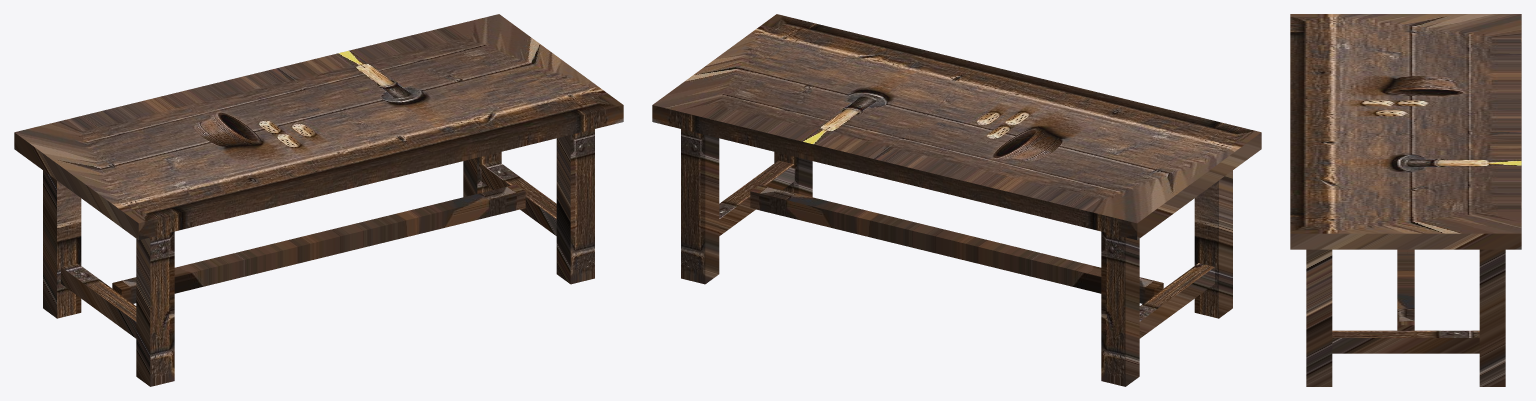
Rendered from v3-guard-post-watch-table.glb.
3 views of the same model, side by side, from view 1: azimuth 30°, elevation 25°; view 2: azimuth 150°, elevation 25°; view 3: azimuth 270°, elevation 25° (orthographic). The views are drawn at different scales.
Parts seen in each view (by area): view 1: v3-guard-post-watch-table; view 2: v3-guard-post-watch-table; view 3: v3-guard-post-watch-table.
Boxes of the visible parts, x1=… form: v3-guard-post-watch-table: x1=14, y1=14, x2=623, y2=386; v3-guard-post-watch-table: x1=652, y1=14, x2=1261, y2=386; v3-guard-post-watch-table: x1=1290, y1=14, x2=1521, y2=386.
Bounding box in the file's own units: 1.8 × 0.62 × 0.8.
Materials: 1 (1 with a texture image).
